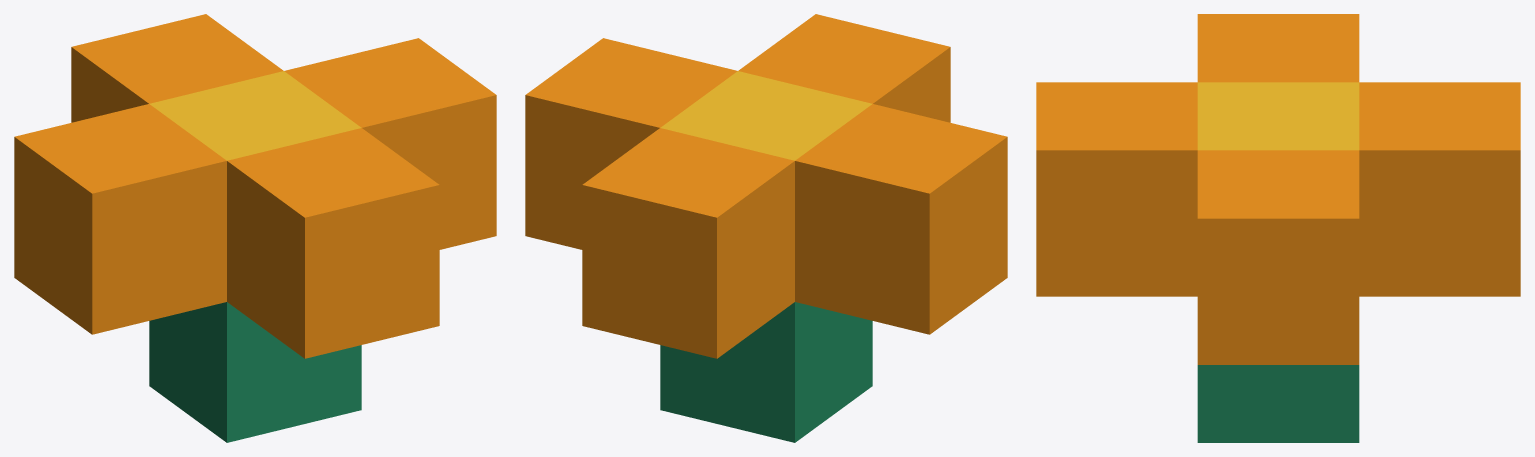
Rendered from flower.obj.
3 renders of one model, left to right at view 1: azimuth 30°, elevation 25°; view 2: azimuth 150°, elevation 25°; view 3: azimuth 270°, elevation 25°, orthographic. The views are drawn at different scales.
Bounding box in the file's own units: 0.3 × 0.2 × 0.3.
1 material, 1 textured.
